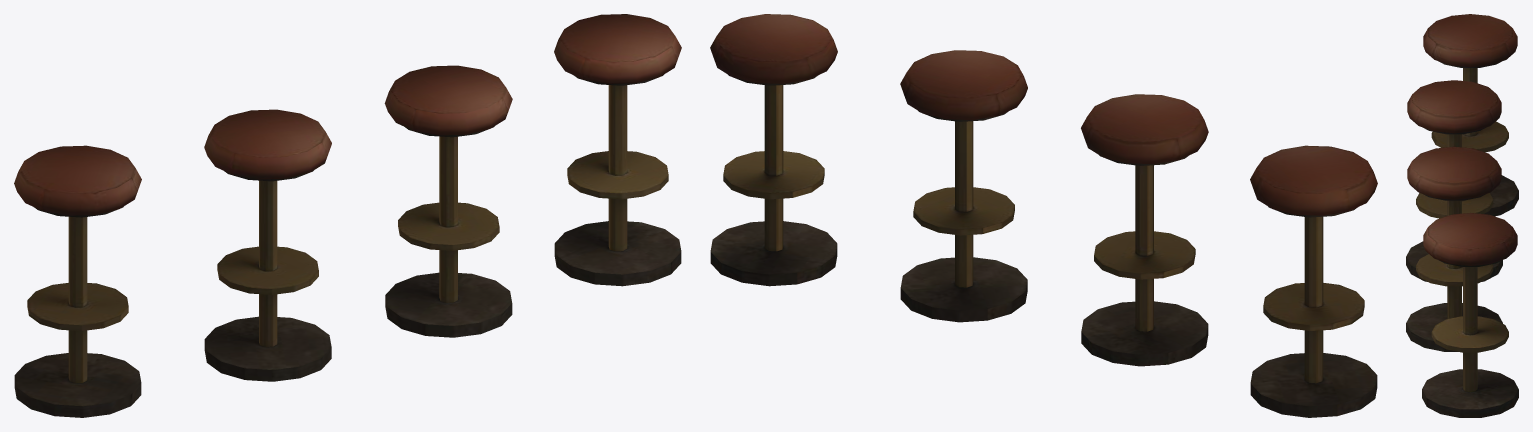
Rendered from cantina_stools.glb.
3 renders of one model, left to right at view 1: azimuth 30°, elevation 25°; view 2: azimuth 150°, elevation 25°; view 3: azimuth 270°, elevation 25°, orthographic. The views are drawn at different scales.
Parts seen in each view (by area): view 1: cantina_stools; view 2: cantina_stools; view 3: cantina_stools.
Boxes of the visible parts, x1,y1,x2,y2 form: cantina_stools: (14, 14, 681, 417); cantina_stools: (710, 14, 1377, 417); cantina_stools: (1406, 14, 1518, 417).
Bounding box in the file's own units: 2.34 × 0.765 × 0.4654.
1 material, 1 textured.
